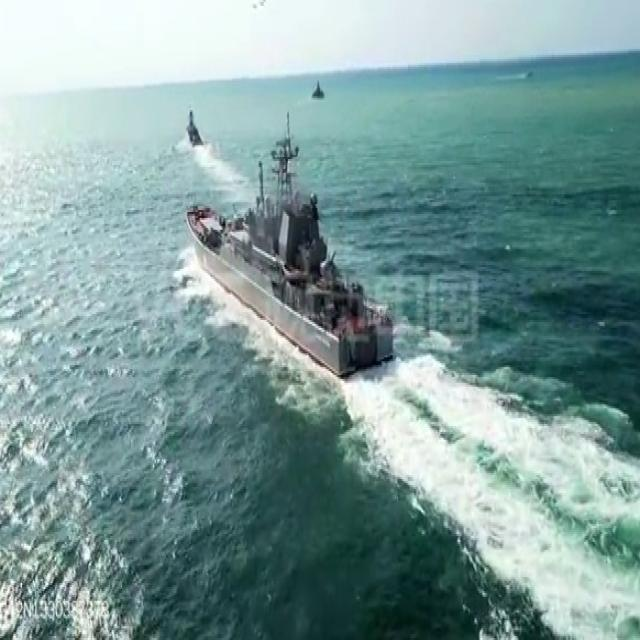navalvessels: (185, 141, 395, 374), (183, 106, 203, 149), (312, 73, 324, 102)
